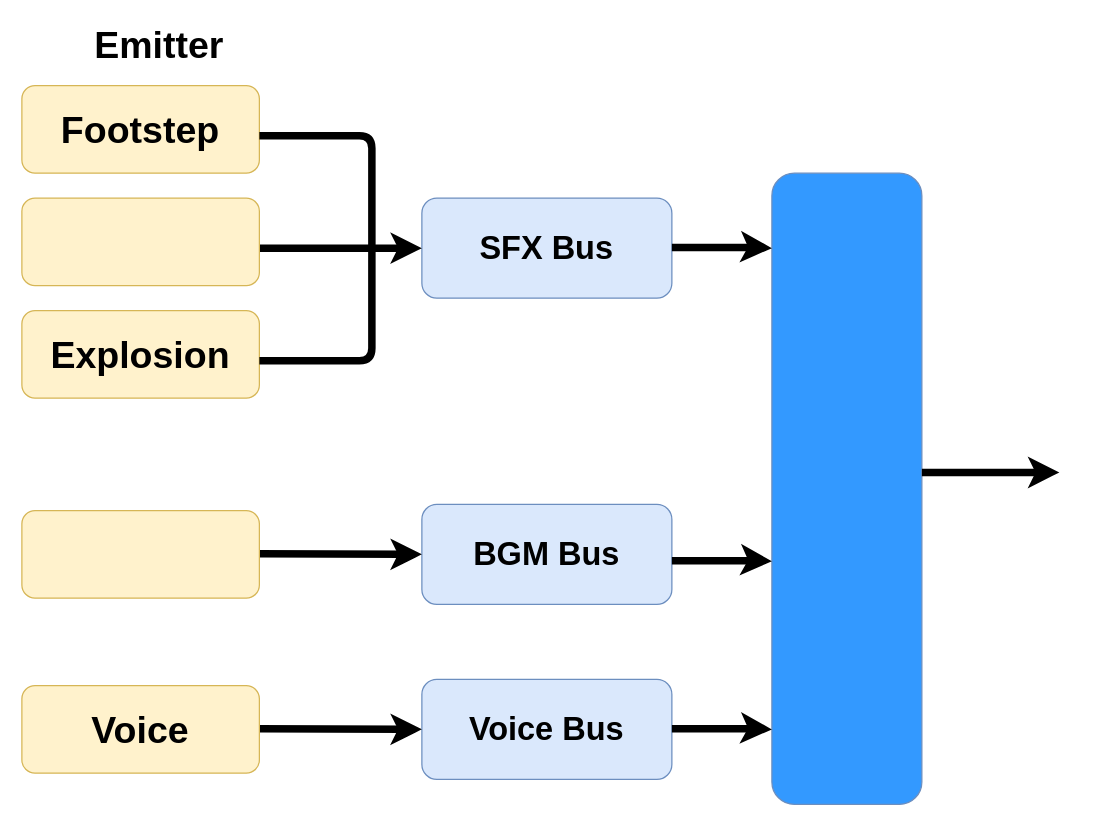
This 1095x826 diagram has some shape labels left out. The shapes that lost their labels are listed below. From the top down, each one's box as (x1, y1, x2, y2) in pixels, then its label:
(21, 197, 259, 286): Gunshot
(771, 172, 922, 804): Master Bus
(21, 509, 259, 598): BGM
